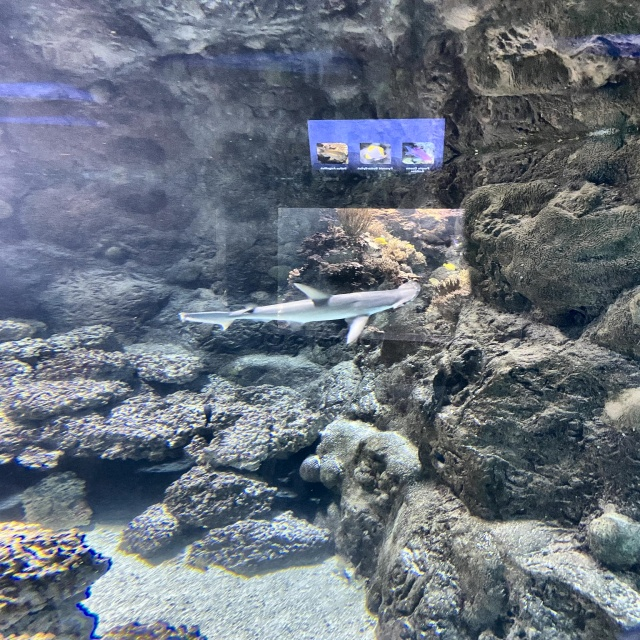shark: (179, 282, 422, 343)
